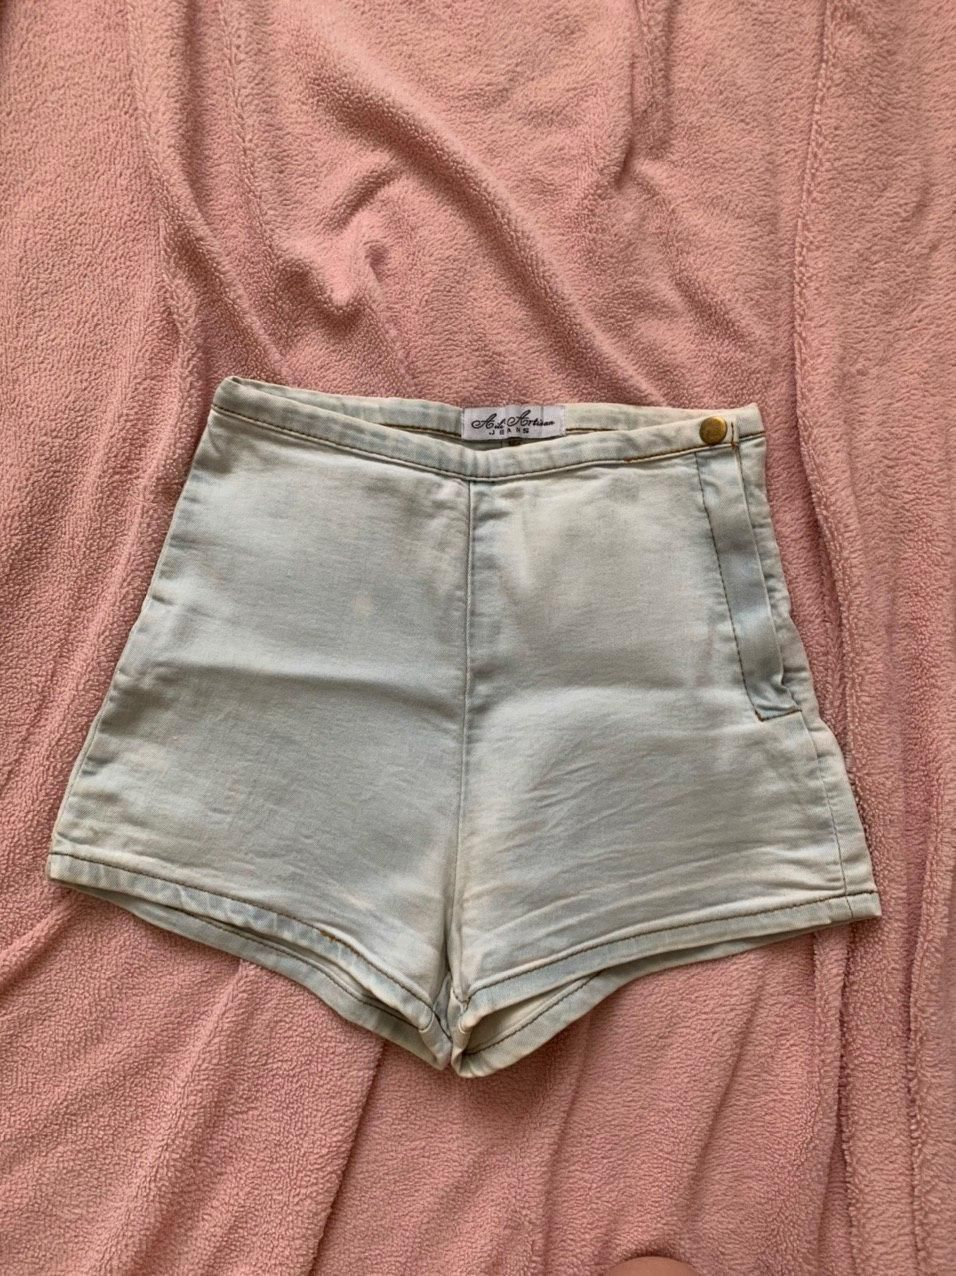clothes: (44, 373, 893, 1094)
